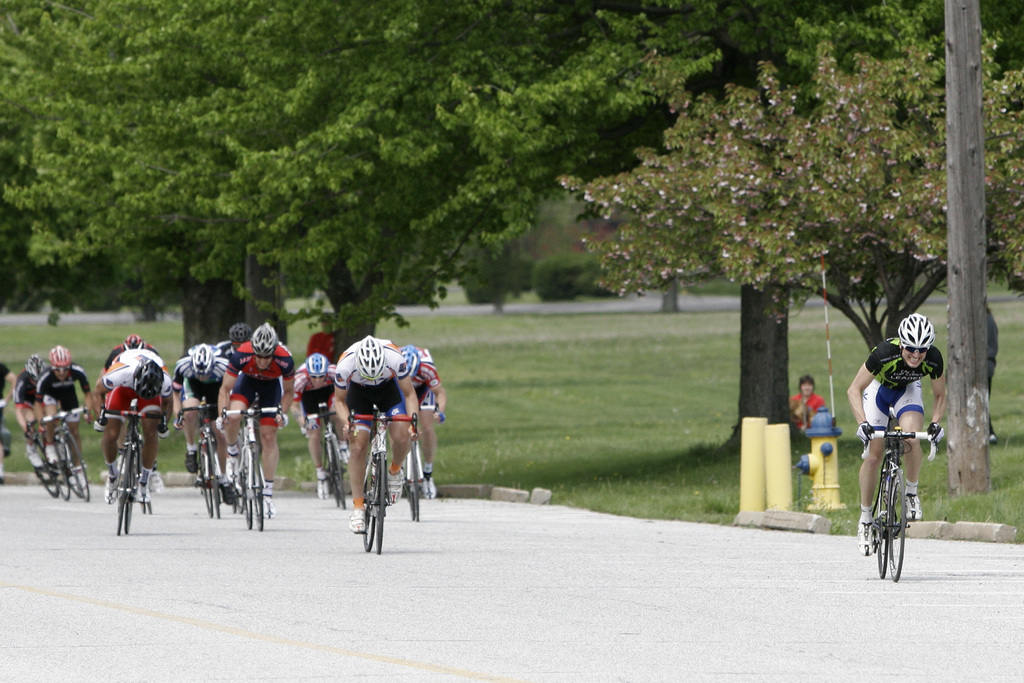Bike: (347, 404, 422, 563)
